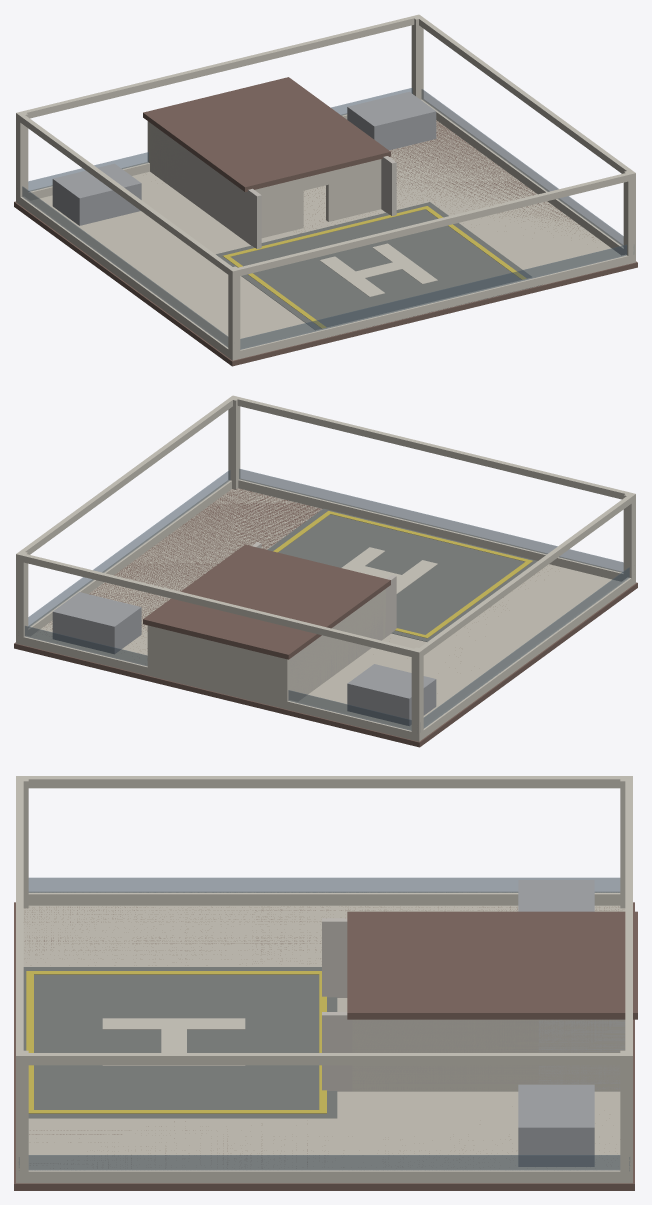
The model's file is brick-roof-a.skyline-v2.lod0.glb.
The picture shows the model from 3 angles, top to bottom: view 1: azimuth 30°, elevation 25°; view 2: azimuth 150°, elevation 25°; view 3: azimuth 270°, elevation 25°; orthographic projection. The views are drawn at different scales.
Parts seen in each view (by area): view 1: brick-roof-a; view 2: brick-roof-a; view 3: brick-roof-a.
Boxes of the visible parts, box(x1,y1,x2,y2) form: brick-roof-a: box(14, 14, 637, 366); brick-roof-a: box(14, 395, 637, 747); brick-roof-a: box(14, 776, 637, 1190).
Bounding box in the file's own units: 26.16 × 5.8 × 24.48.
